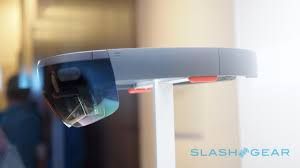hololens: (33, 43, 260, 132)
